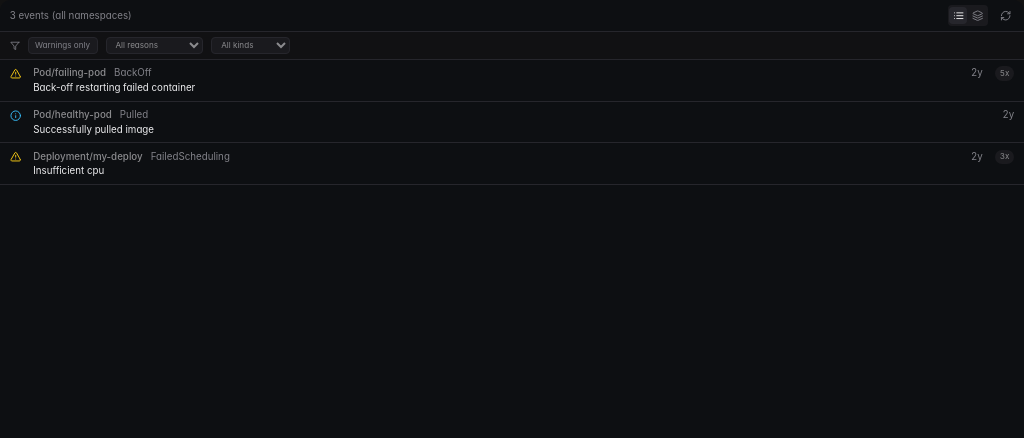
Test: EventsTab › shows empty state when all events are filtered out
This screenshot has width=1024, height=438.
Expected: the text "Pod/failing-pod" is shown, [33,66,106,79]
# Filter to a non-existent combination
Click the button with test id "warnings-only-toggle".
click(62, 45)  # box [28,37,98,54]
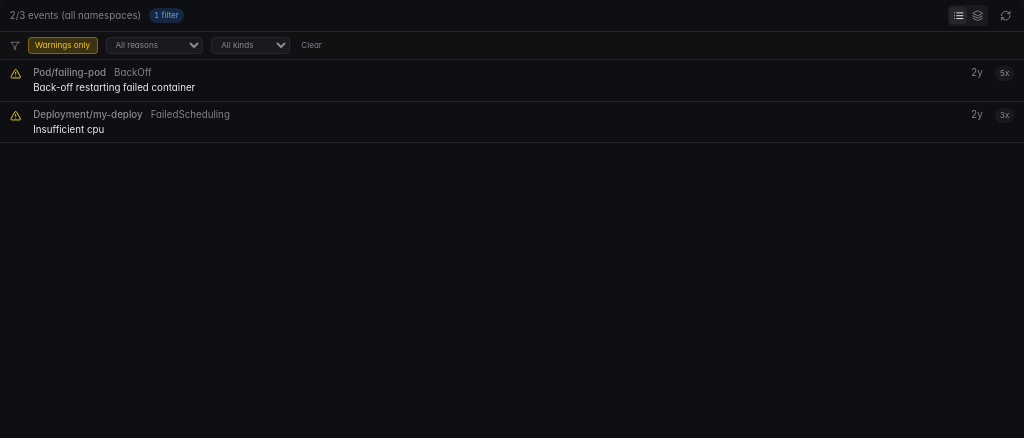
Select "Pulled" in the dropdown with test id "reason-filter" at (154, 45), box [106,37,203,54]
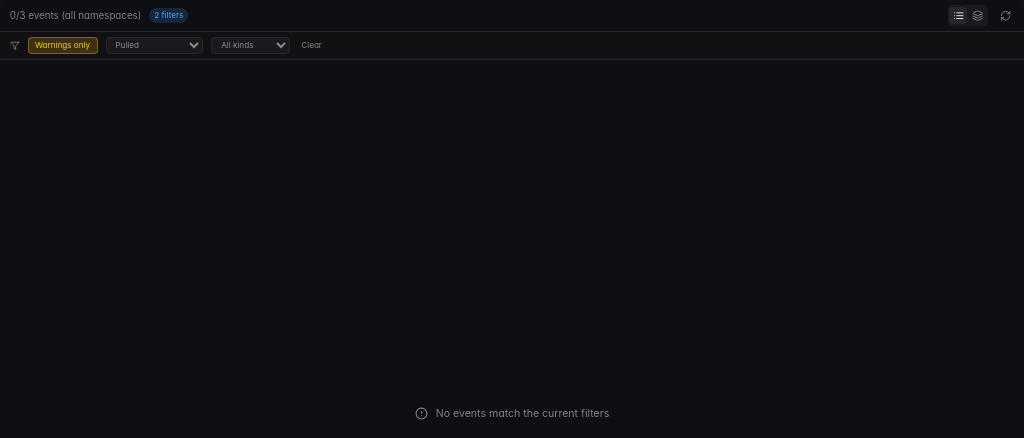
Result: the text "No events match the current filters" is shown at [436,407,609,421]
